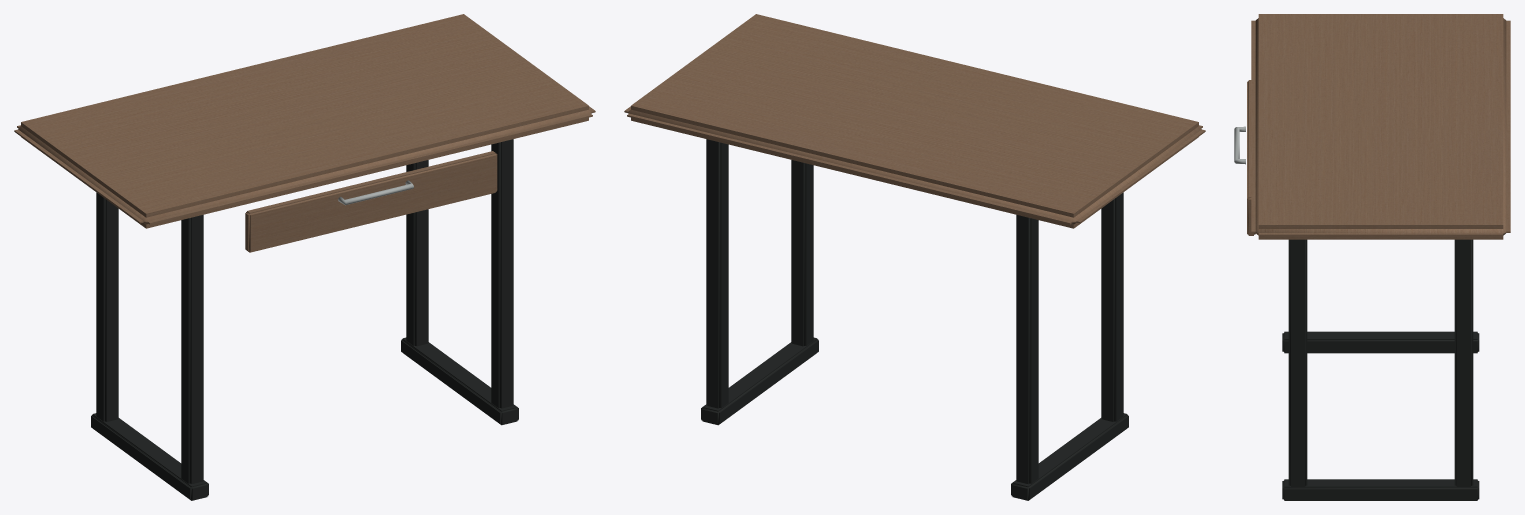
File: industrial.desk.gltf
3 views of the same model, side by side, from view 1: azimuth 30°, elevation 25°; view 2: azimuth 150°, elevation 25°; view 3: azimuth 270°, elevation 25° (orthographic). The views are drawn at different scales.
Parts seen in each view (by area): view 1: industrial.desk.rounded-top; view 2: industrial.desk.rounded-top; view 3: industrial.desk.rounded-top.
Boxes of the visible parts, <box> form: industrial.desk.rounded-top: <box>14,14,595,500</box>; industrial.desk.rounded-top: <box>624,14,1205,500</box>; industrial.desk.rounded-top: <box>1234,14,1510,500</box>.
Bounding box in the file's own units: 1.15 × 0.75 × 0.618.
3 materials, 1 textured.
